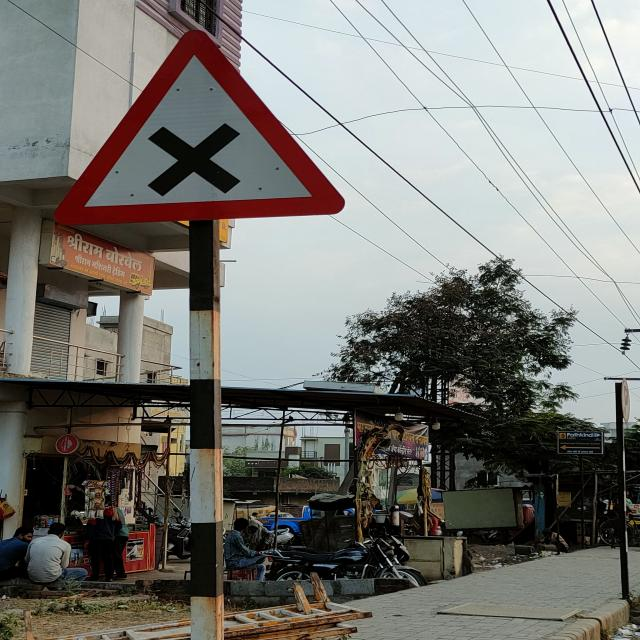CROSS_ROAD: (54, 30, 344, 224)
